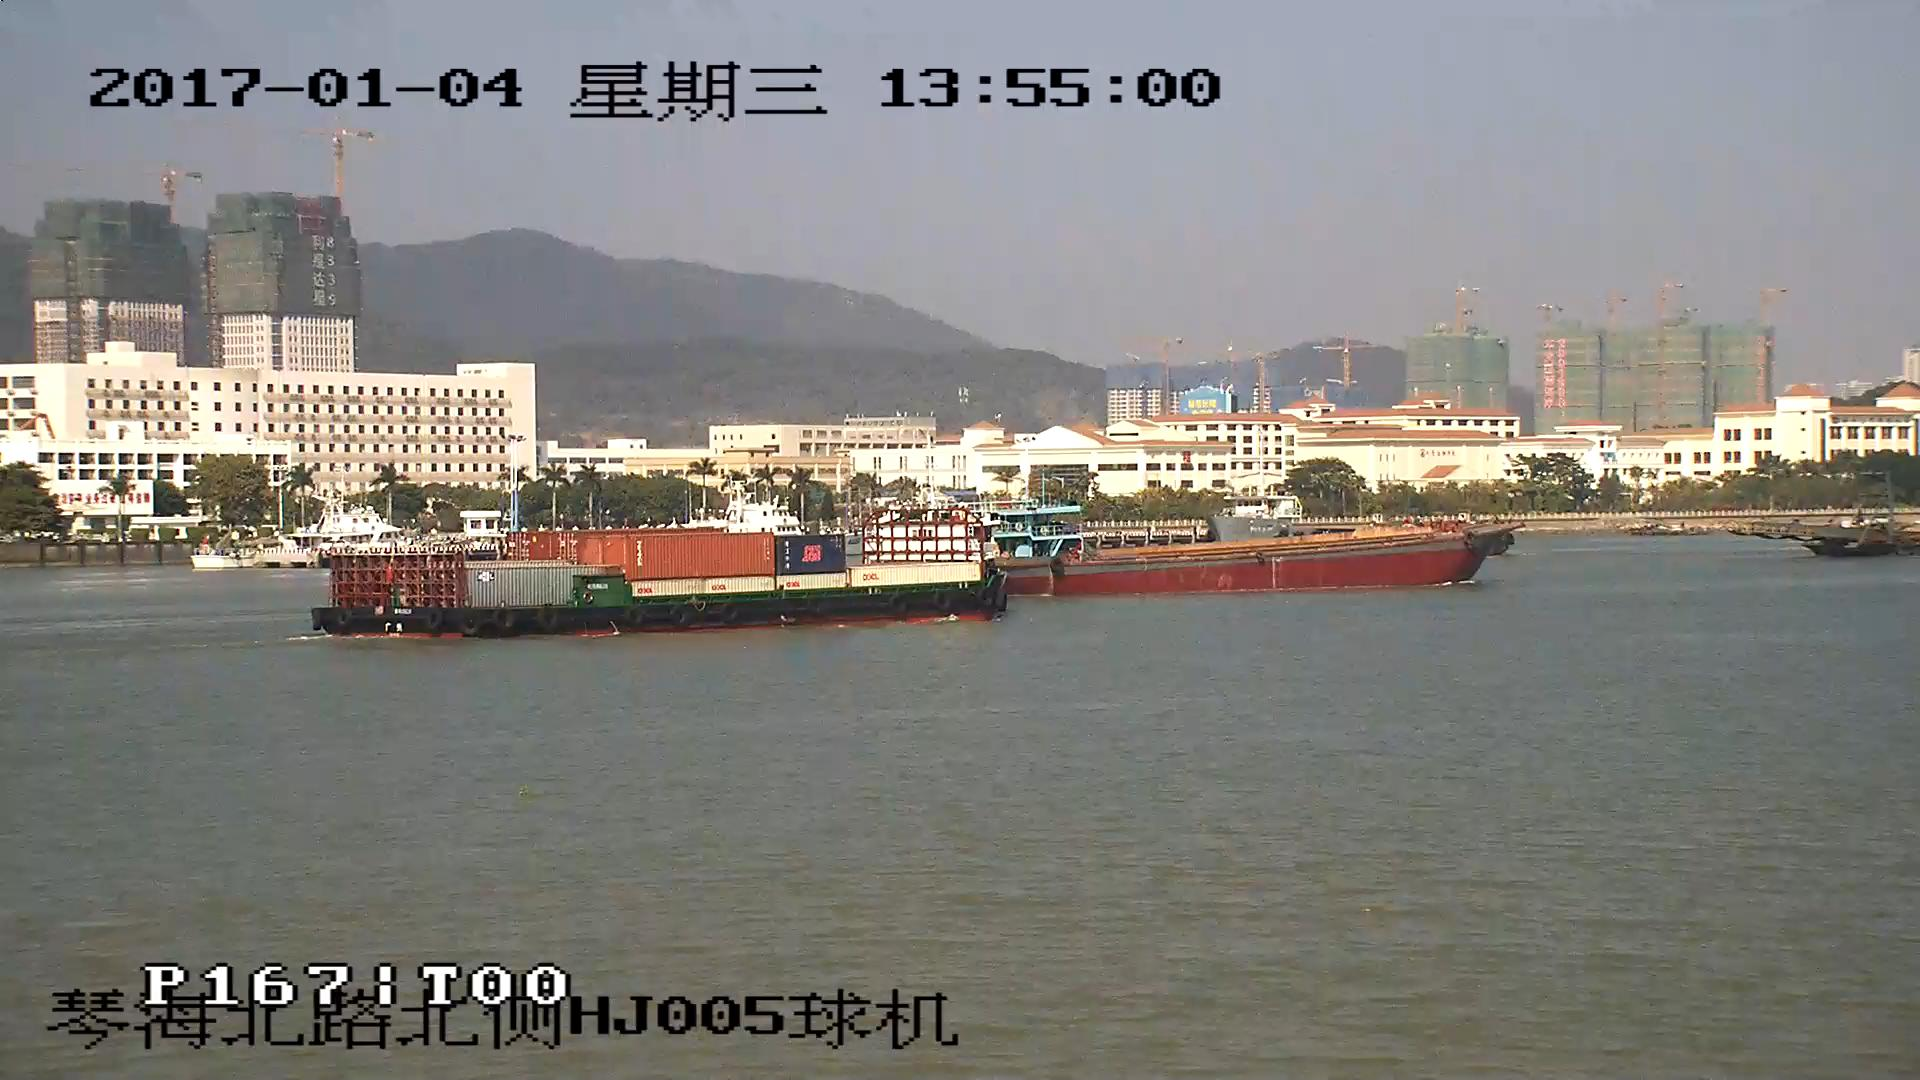bulk cargo carrier: (1003, 522, 1519, 593)
container ship: (314, 508, 1003, 640)
